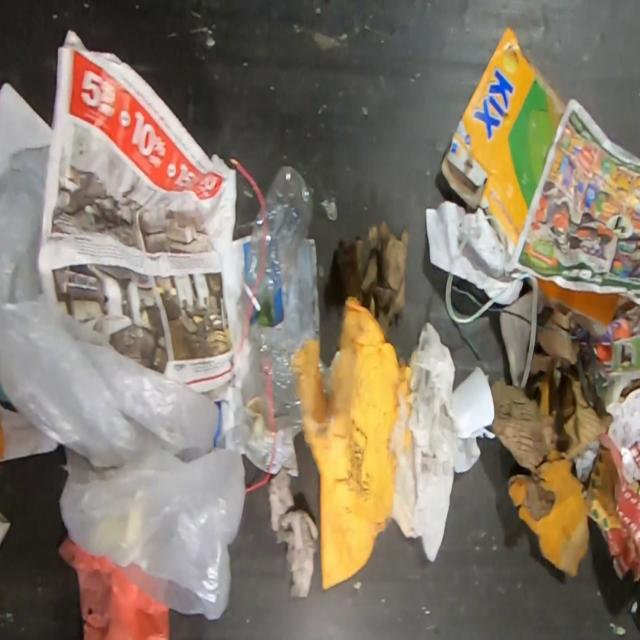cardboard: (294, 295, 414, 594), (435, 20, 566, 259), (490, 284, 613, 471), (506, 443, 623, 576), (574, 376, 640, 583), (334, 218, 410, 330)
rigid_plastic: (238, 160, 318, 316), (249, 320, 302, 432)
soft_plastic: (0, 143, 246, 621)
